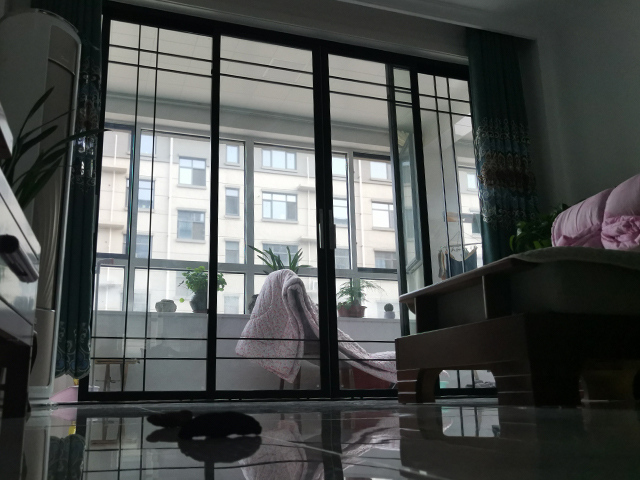cabinet: (1, 108, 45, 420)
curtain: (52, 1, 111, 382)
feces: (175, 409, 264, 442), (143, 409, 195, 425)
sofa: (392, 244, 640, 408)
